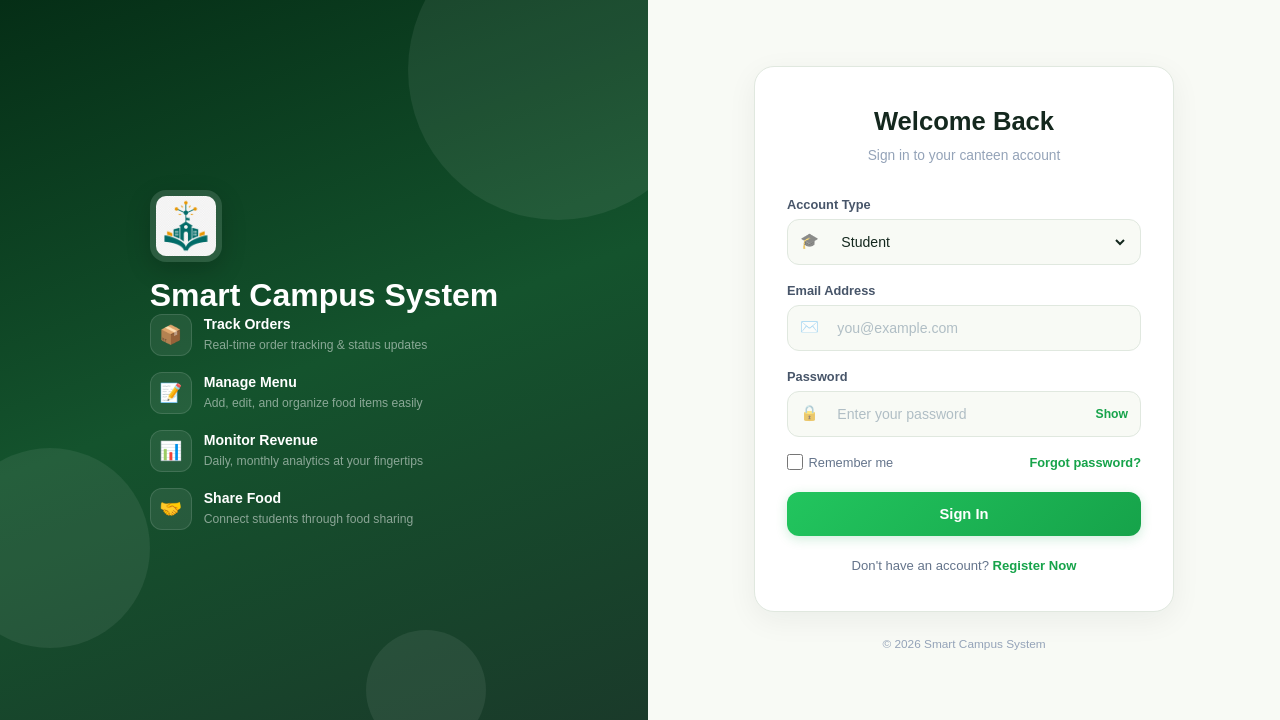
Test case: LoginPage › shows the backend error message when login fails
In the field with placeholder "you@example.com": (978, 328) [827,306,1128,350], type "wrong@example.com"
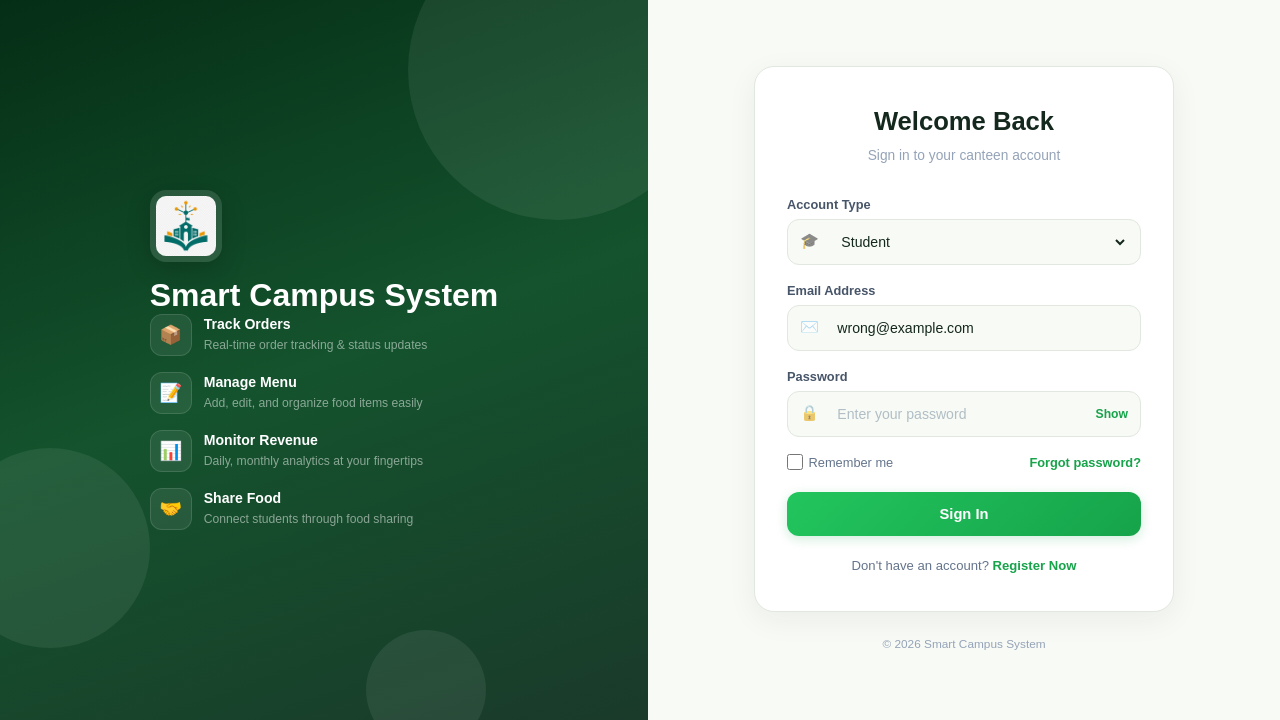
In the password field with placeholder "Enter your password": (958, 414) [827,392,1089,436], type "wrongpass"
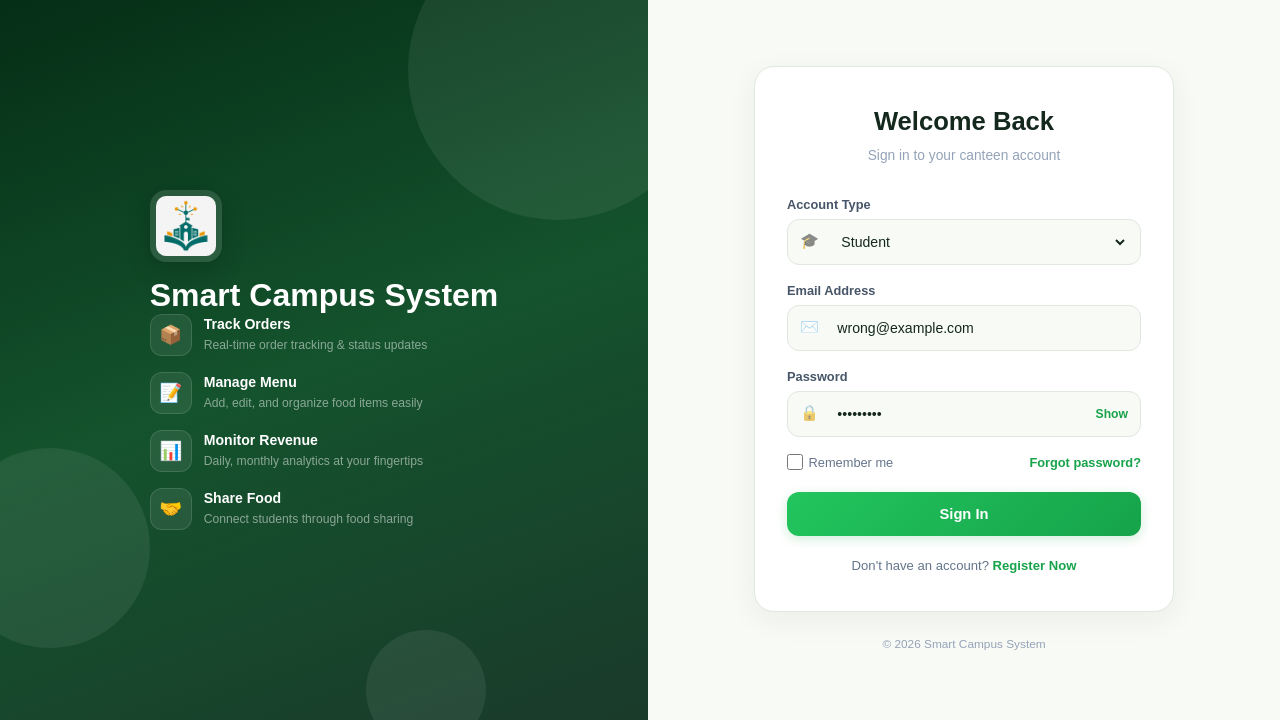
Click the button "Sign In": click(964, 514) [787,492,1141,536]
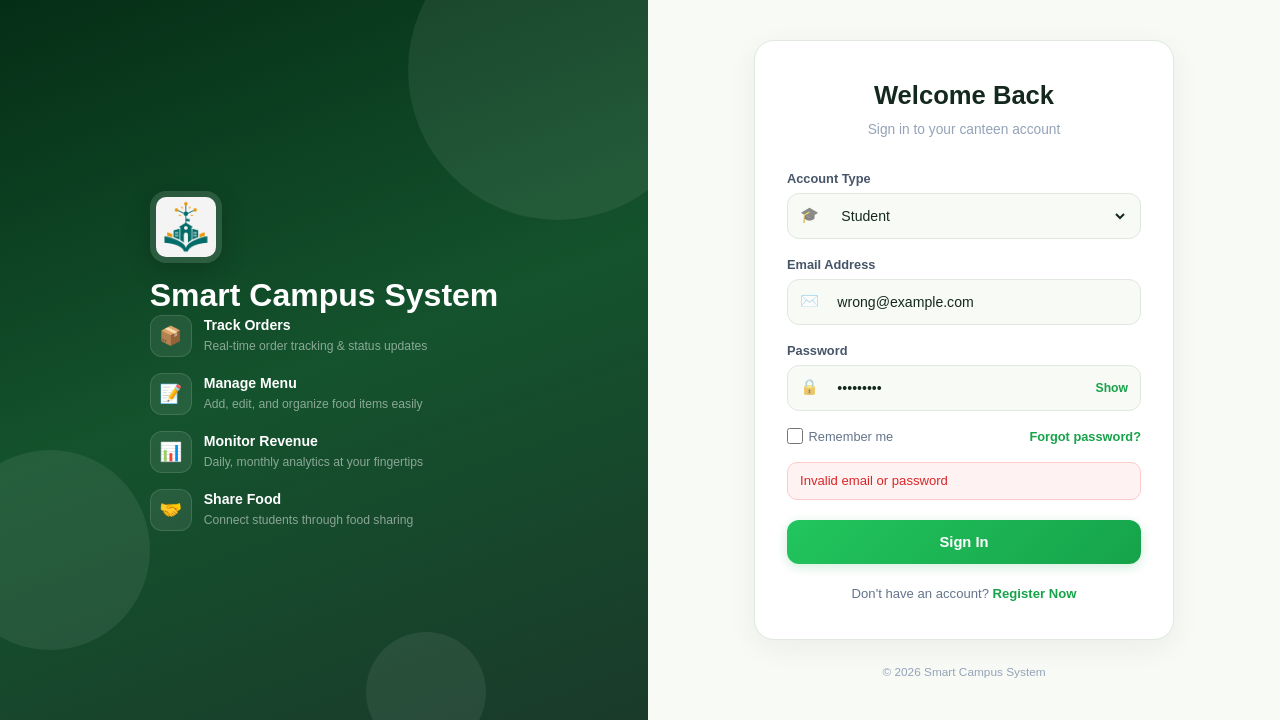
expect the text "Invalid email or password" is shown: met, box [787,462,1141,500]
